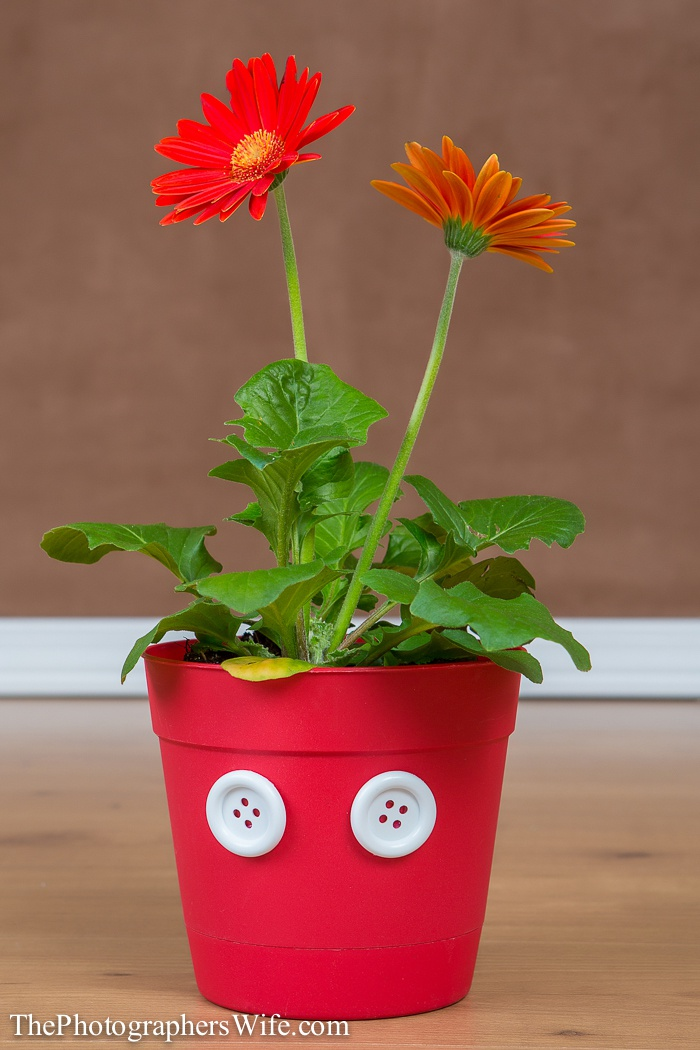flowerpot: (136, 635, 519, 1019)
